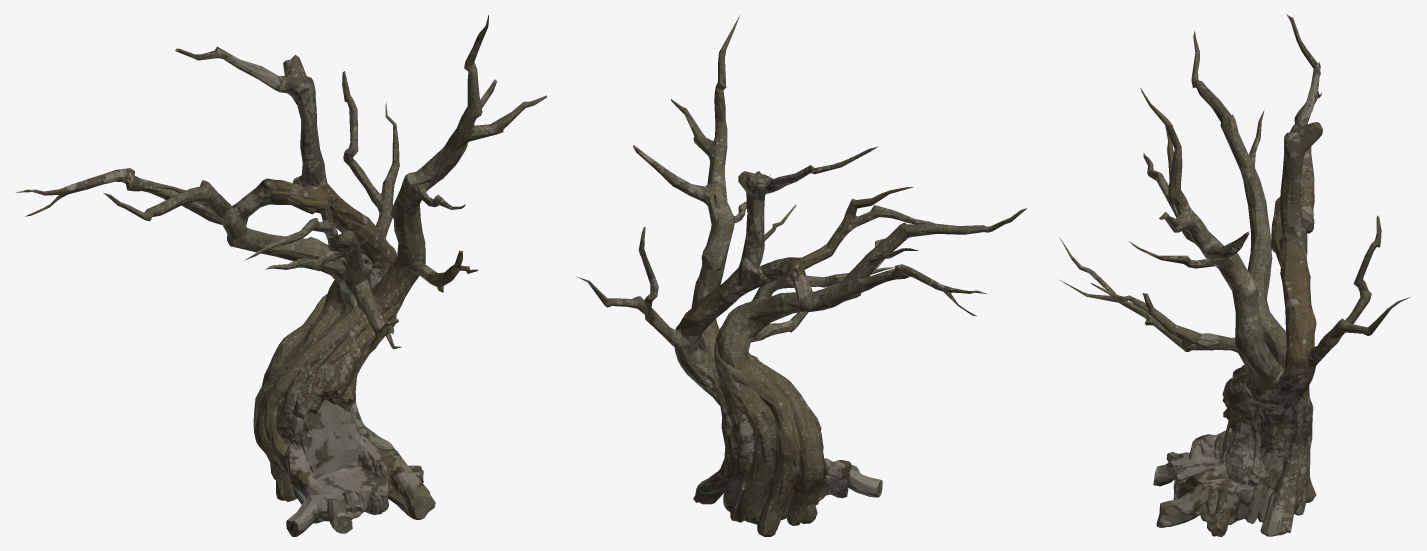
The model's file is House21.fbx.
3 renders of one model, left to right at view 1: azimuth 30°, elevation 25°; view 2: azimuth 150°, elevation 25°; view 3: azimuth 270°, elevation 25°, orthographic. The views are drawn at different scales.
Visible parts, largest first — view 1: AT_BGAgo_Chair_A01_07B.mo; view 2: AT_BGAgo_Chair_A01_07B.mo; view 3: AT_BGAgo_Chair_A01_07B.mo.
Part boxes in pixels (x1,y1,x2,y2): AT_BGAgo_Chair_A01_07B.mo: (15,15,546,536); AT_BGAgo_Chair_A01_07B.mo: (576,15,1026,536); AT_BGAgo_Chair_A01_07B.mo: (1059,14,1410,536).
Bounding box in the file's own units: 1247 × 1332 × 920.
